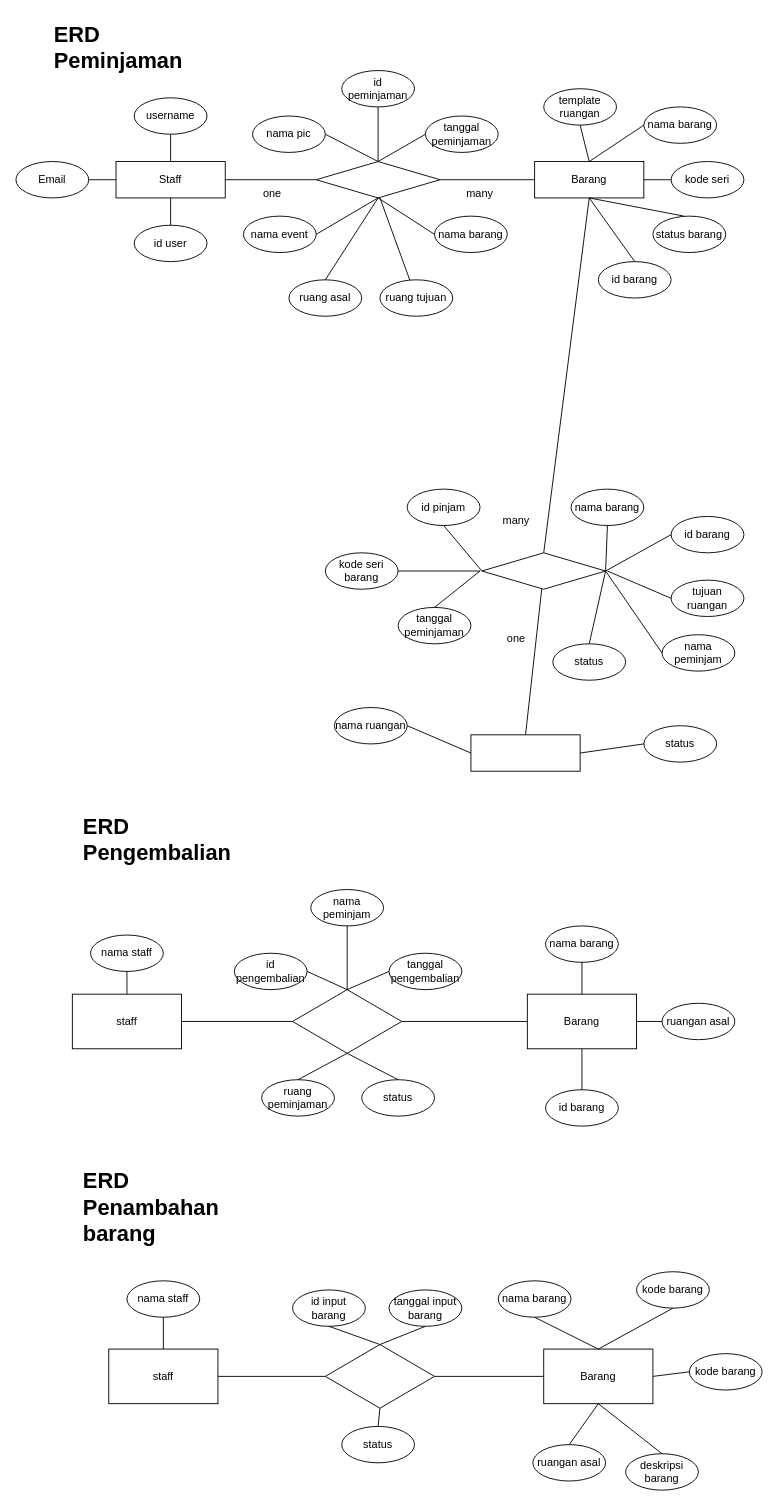
This 778x1506 diagram has some shape labels left out. The shapes that lost their labels are listed below. From the top down, each one's centre as x and y in pixels, then its label:
At point (377, 179): "Meminjam".
At point (543, 570): "tersedia".
At point (525, 752): "Ruangan".
At point (347, 1021): "pengembalian".
At point (379, 1376): "Input barang".
